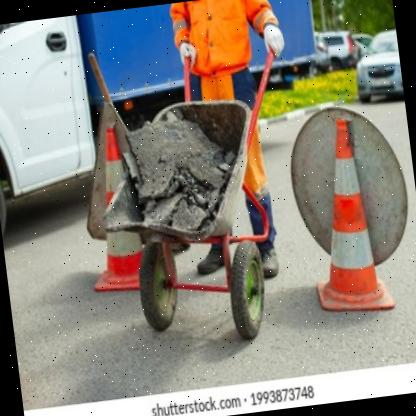bota: (192, 235, 228, 280), (252, 228, 282, 278)
